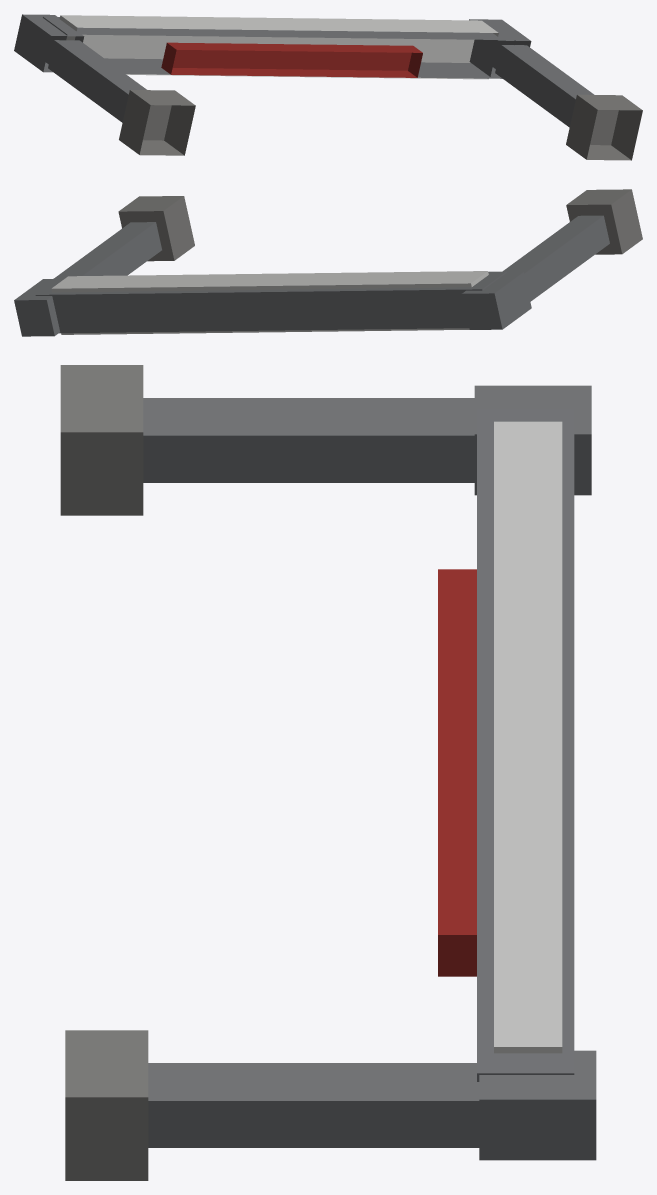
The model's file is Trk_Gantry.fbx.
The picture shows the model from 3 angles, top to bottom: view 1: azimuth 30°, elevation 25°; view 2: azimuth 150°, elevation 25°; view 3: azimuth 270°, elevation 25°; orthographic projection. The views are drawn at different scales.
Parts seen in each view (by area): view 1: Trk_Gantry; view 2: Trk_Gantry; view 3: Trk_Gantry.
Boxes of the visible parts, <box> form: Trk_Gantry: <box>14,14,642,160</box>; Trk_Gantry: <box>14,189,642,336</box>; Trk_Gantry: <box>60,365,596,1180</box>.
Bounding box in the file's own units: 2383 × 1100 × 785.
